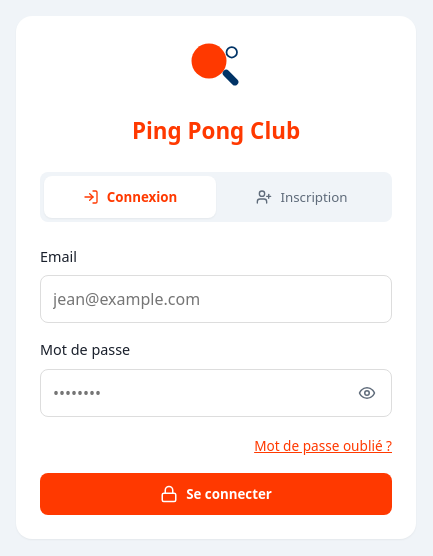
Scenario: Login › bascule vers le formulaire mot de passe oublié
The image size is (433, 556).
Click the button "Mot de passe oublié ?" at x=323, y=445, box [254,436,392,455]
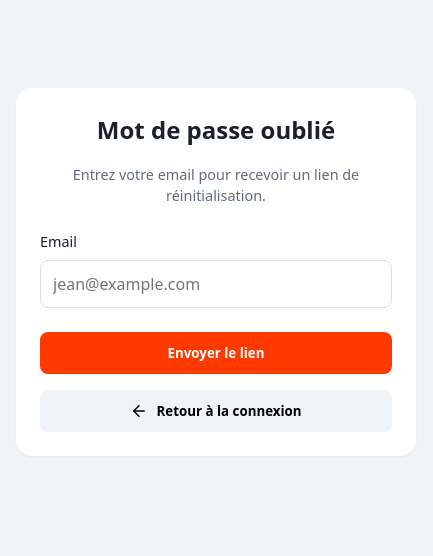
Expected: the heading "Mot de passe oublié" is shown, [97,113,335,146]
Result: the button "Envoyer le lien" is shown at [40,332,392,374]
